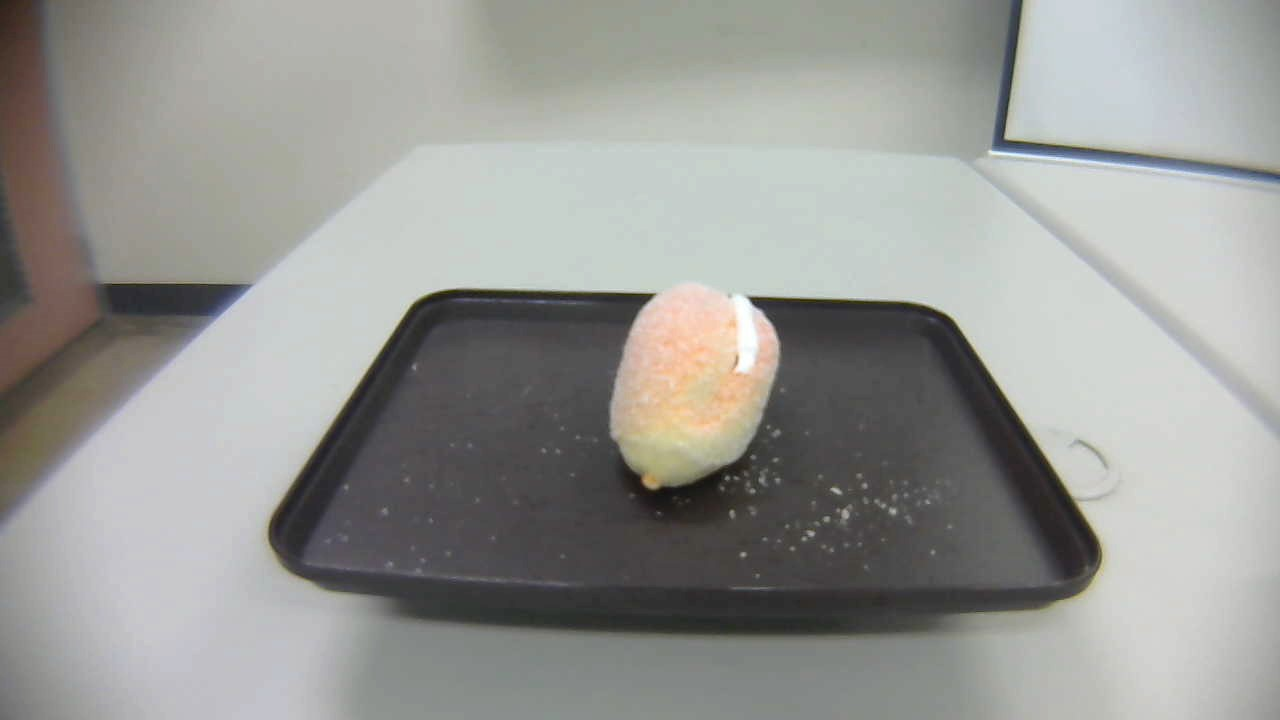coconut: (608, 283, 779, 492)
